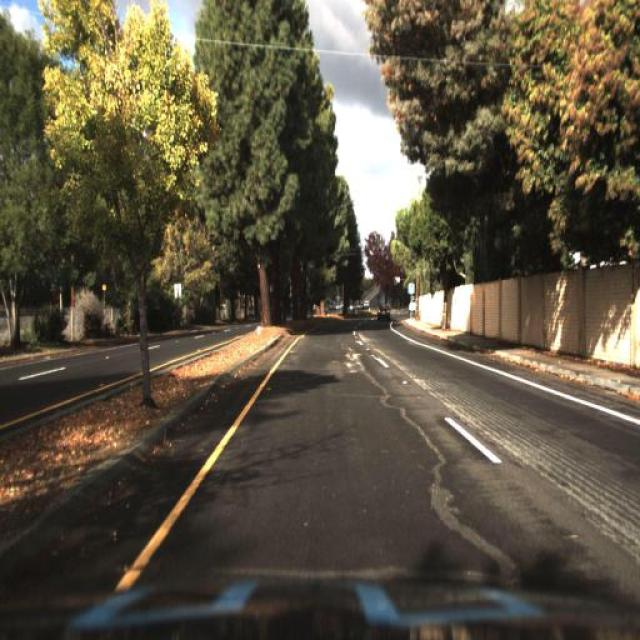car: (370, 298, 394, 324)
